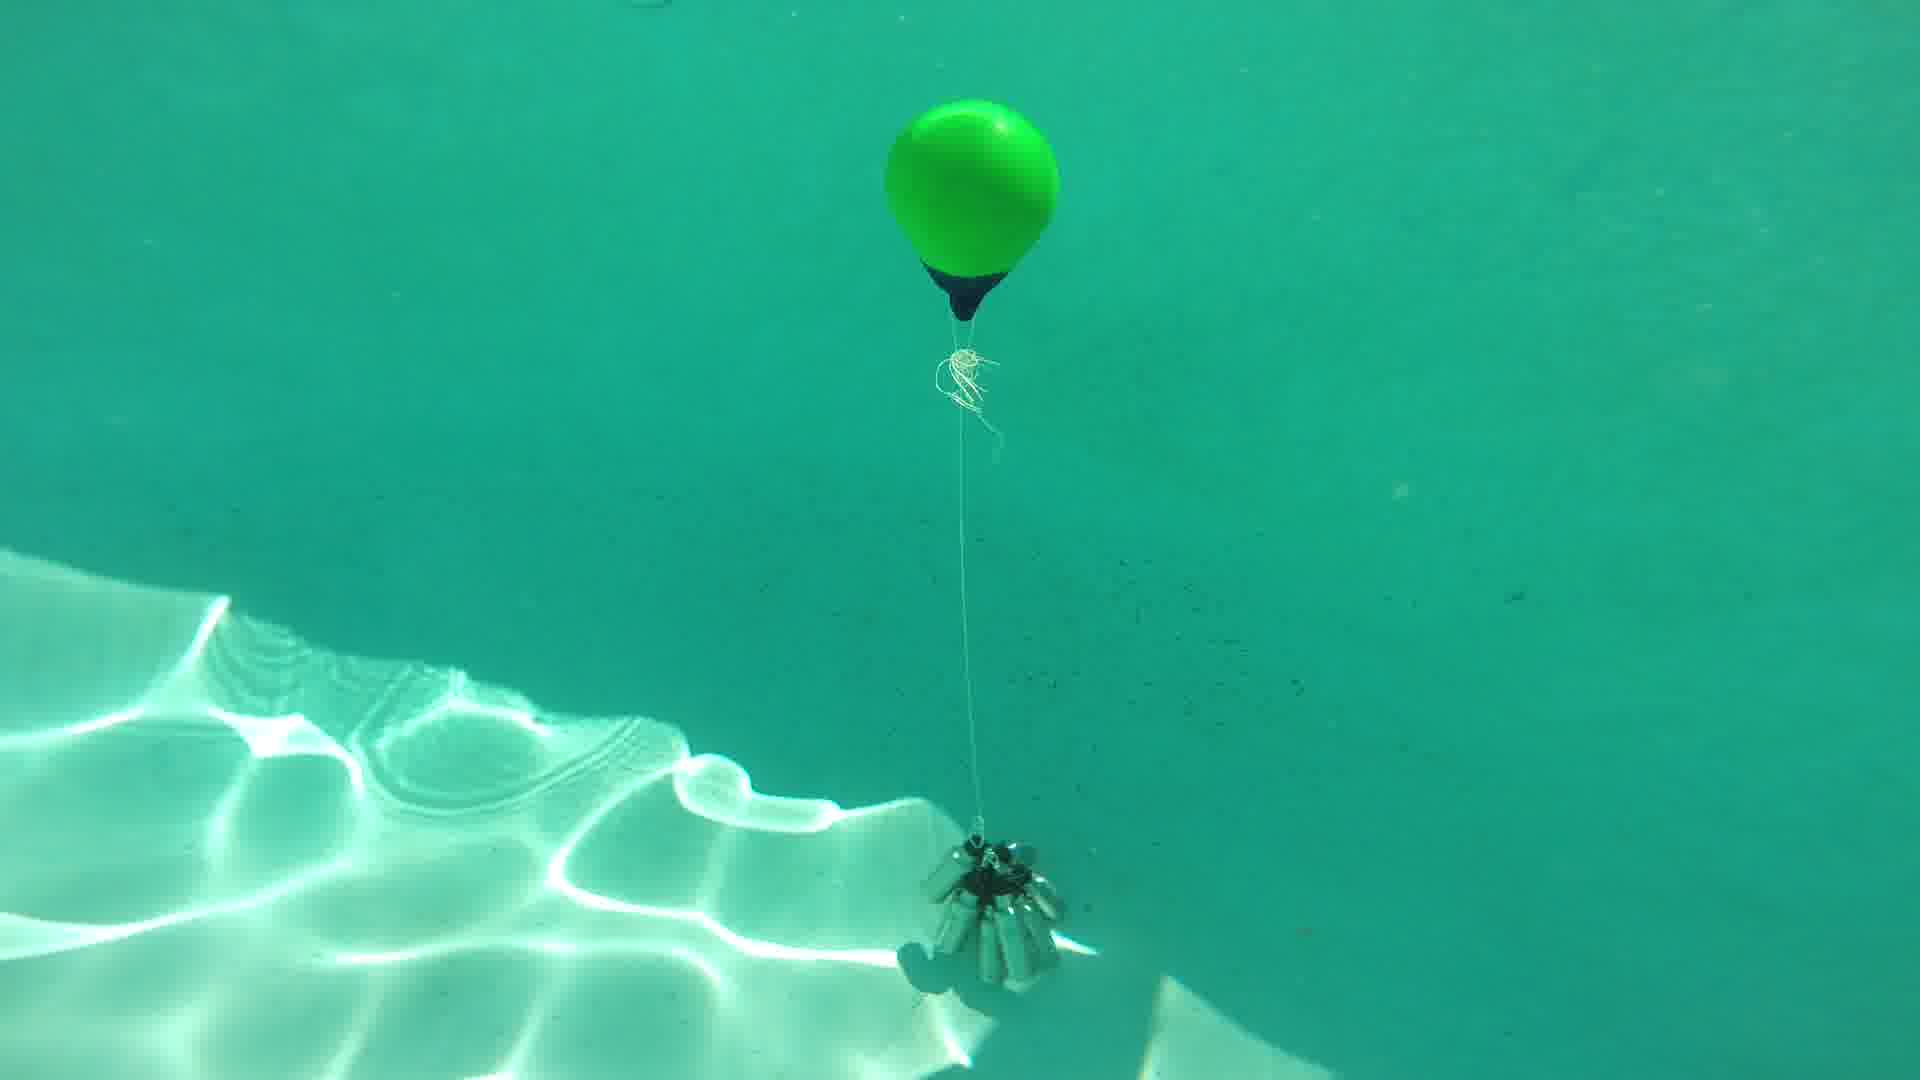yellow_buoy: (886, 98, 1062, 323)
